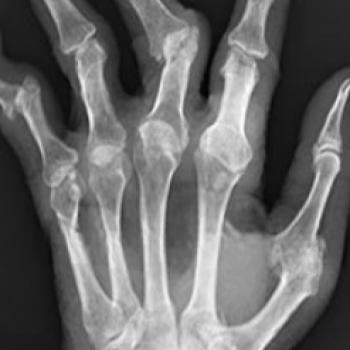Fracture: (148, 20, 200, 65)
